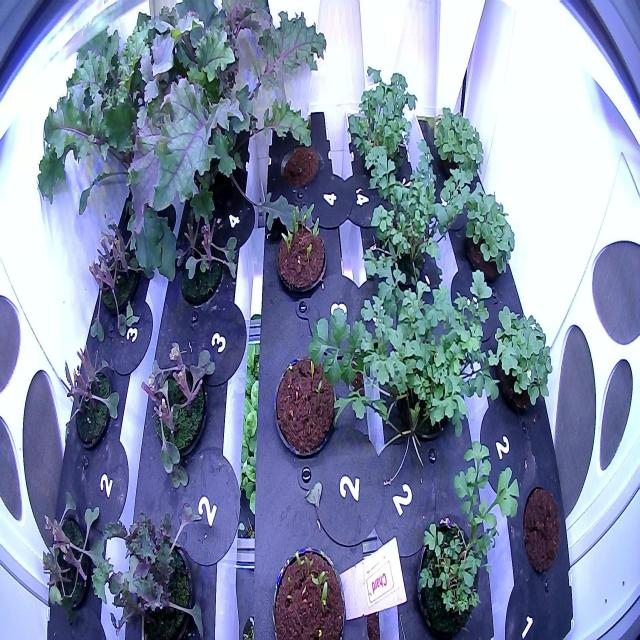germination: (266, 521, 353, 636), (270, 347, 342, 465), (272, 197, 330, 300)
pod: (519, 476, 563, 584), (274, 137, 326, 195)
